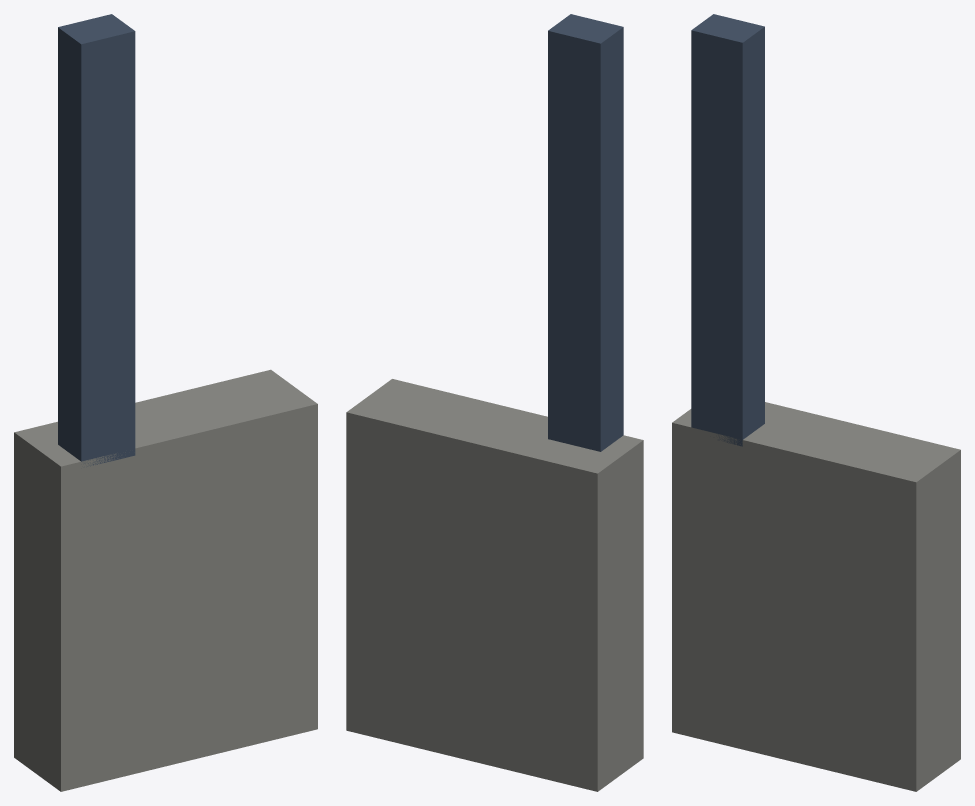
The model's file is mp8_ignition.obj.
3 views of the same model, side by side, from view 1: azimuth 30°, elevation 25°; view 2: azimuth 150°, elevation 25°; view 3: azimuth 330°, elevation 25° (orthographic). The views are drawn at different scales.
Visible parts, largest first — view 1: mp8_ignition; view 2: mp8_ignition; view 3: mp8_ignition.
Boxes of the visible parts, box(x1,y1,x2,y2) form: mp8_ignition: box(14, 14, 317, 791); mp8_ignition: box(346, 14, 643, 791); mp8_ignition: box(672, 14, 960, 791).
Bounding box in the file's own units: 0.38 × 1.05 × 0.12.
